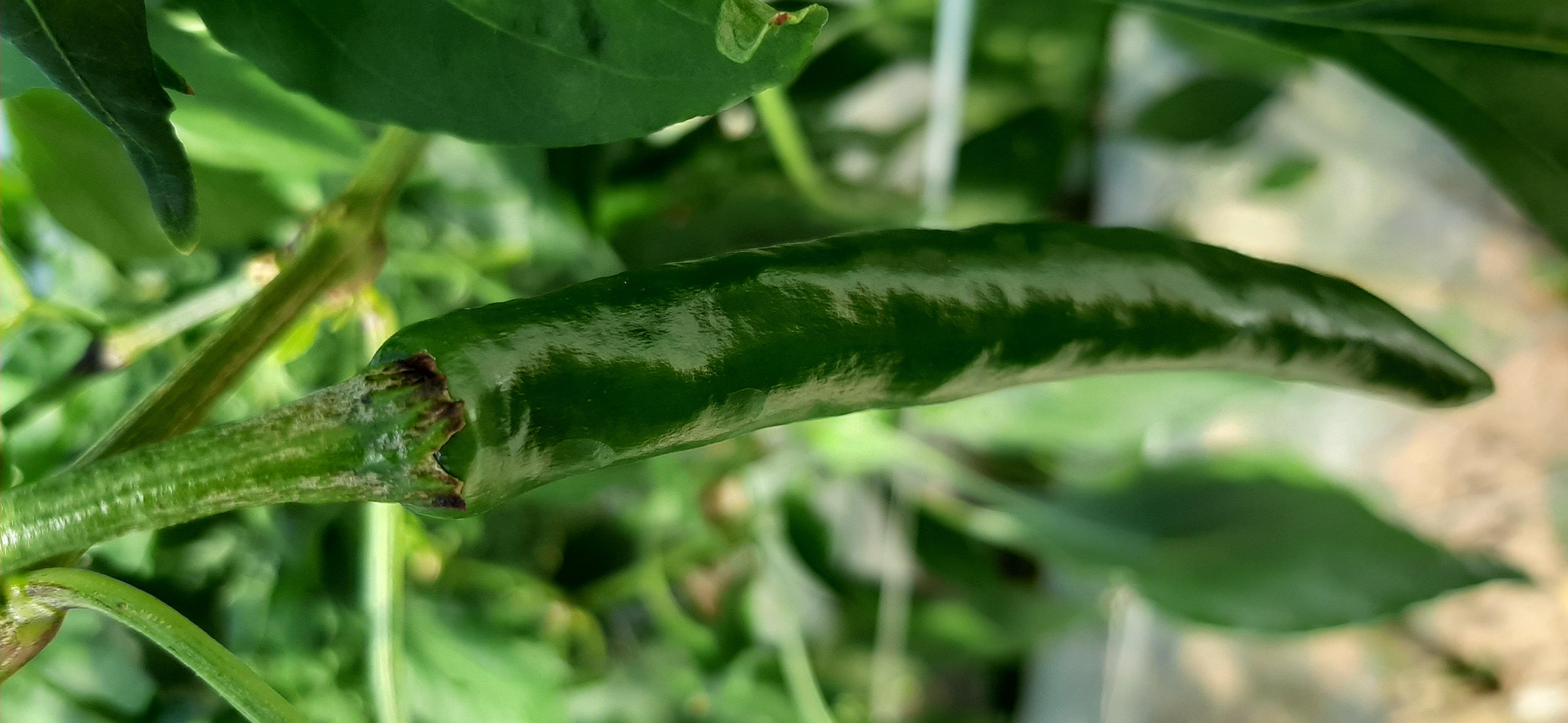Buah Cabai Sehat: (362, 209, 1502, 517)
